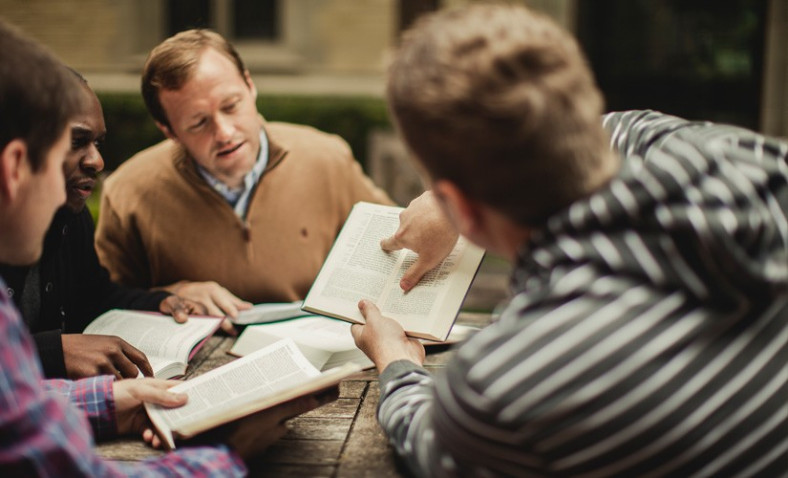Person: (349, 1, 788, 478), (94, 27, 397, 317)
